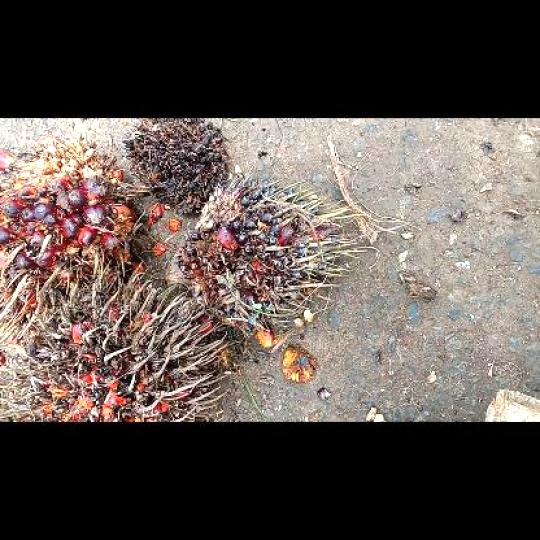masak: (1, 139, 142, 300)
terlalu masak: (0, 272, 239, 421)
